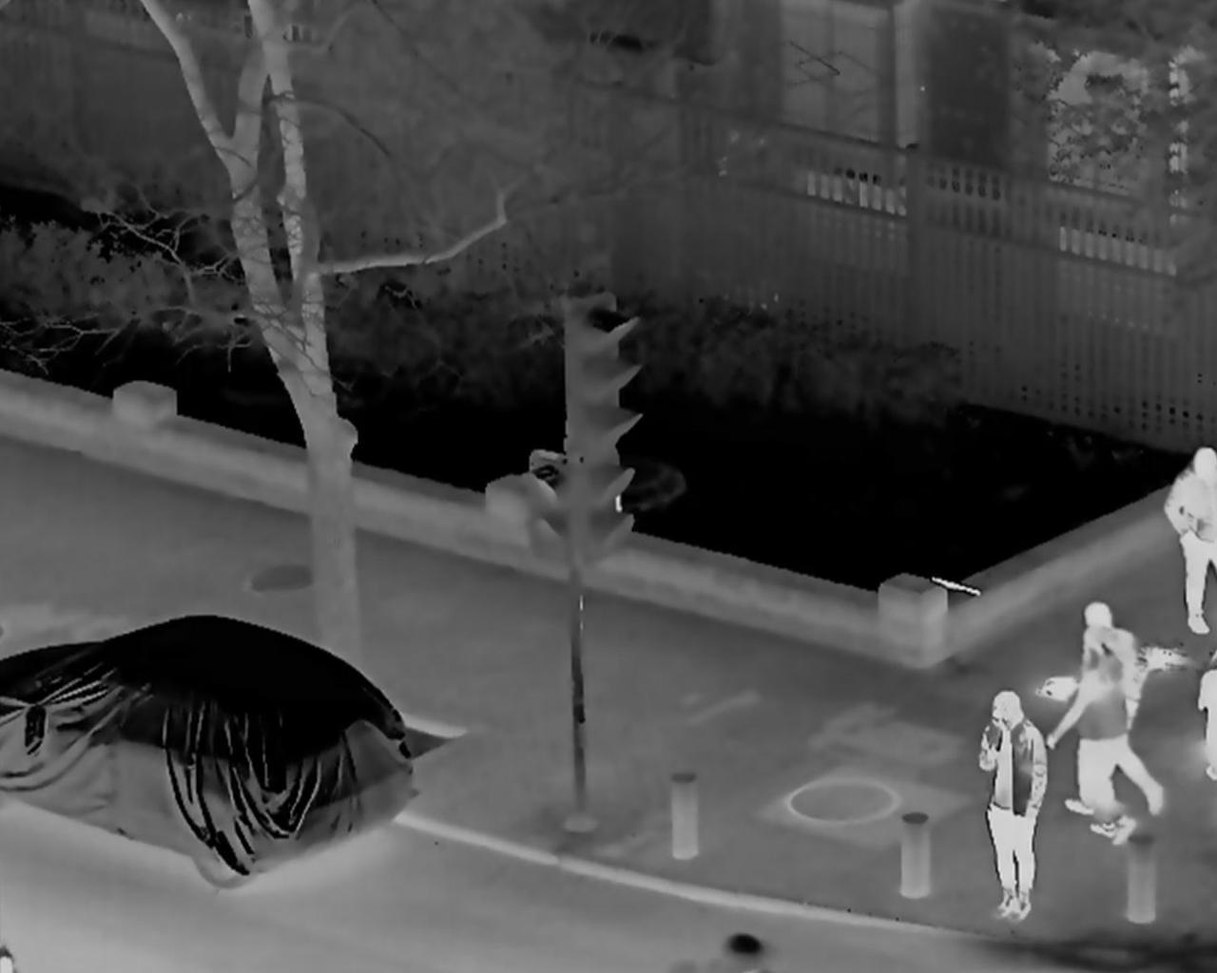person: (1045, 636, 1141, 849), (1072, 602, 1162, 819), (977, 690, 1046, 920), (1168, 447, 1217, 614)
